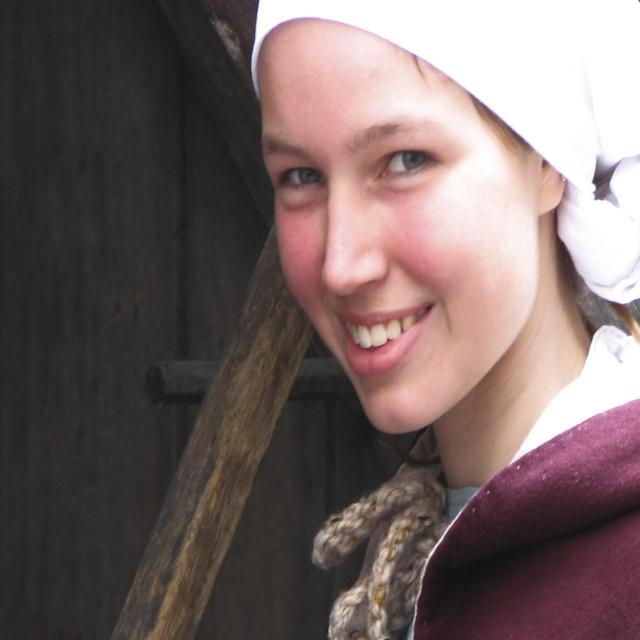no-glass: (277, 141, 434, 192)
